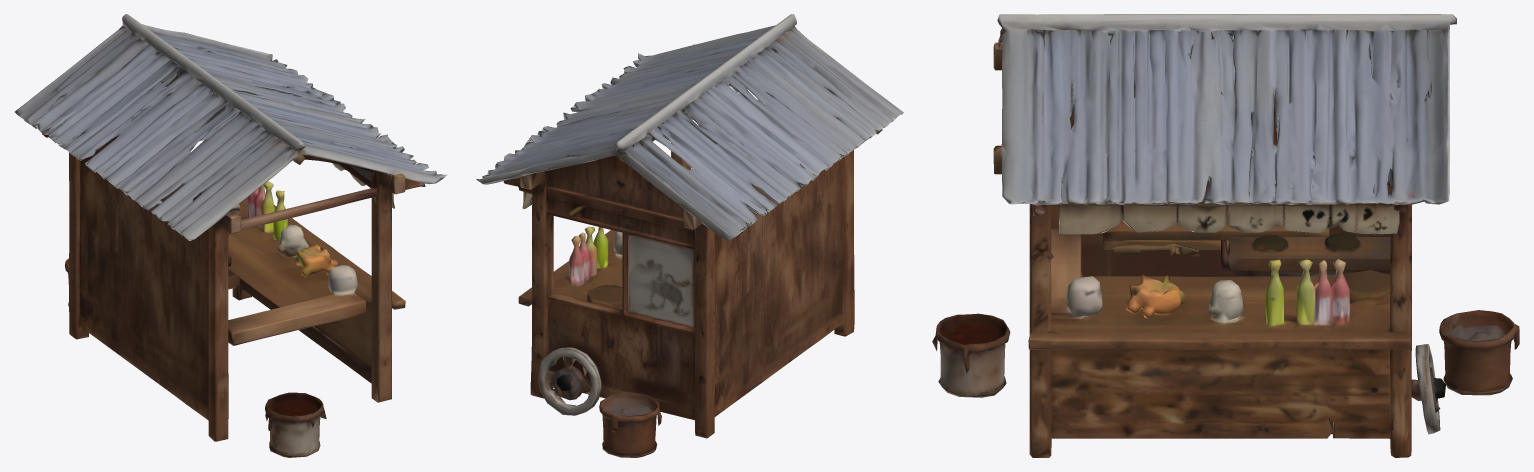
The model's file is villagekiosk.glb.
3 views of the same model, side by side, from view 1: azimuth 30°, elevation 25°; view 2: azimuth 150°, elevation 25°; view 3: azimuth 270°, elevation 25° (orthographic). The views are drawn at different scales.
Visible parts, largest first — view 1: tripo_node_1be78d07-b40f-42fd-b1e1-1f1db0146fbe; view 2: tripo_node_1be78d07-b40f-42fd-b1e1-1f1db0146fbe; view 3: tripo_node_1be78d07-b40f-42fd-b1e1-1f1db0146fbe.
Part boxes in pixels (x1,y1,x2,y2): tripo_node_1be78d07-b40f-42fd-b1e1-1f1db0146fbe: (14,14,447,457); tripo_node_1be78d07-b40f-42fd-b1e1-1f1db0146fbe: (476,14,903,457); tripo_node_1be78d07-b40f-42fd-b1e1-1f1db0146fbe: (932,14,1519,457).
Size of the model in its own units: 2.69 by 2.86 by 4.
Materials: 1 (1 with a texture image).
